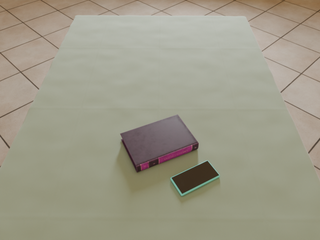book: (120, 115, 198, 172)
phone: (171, 161, 220, 196)
